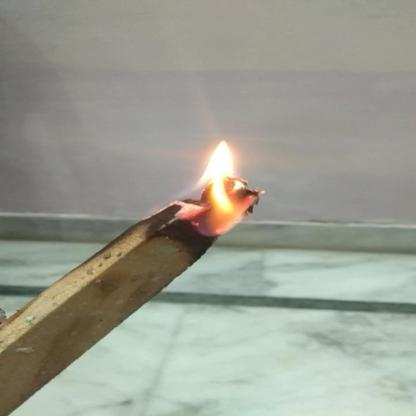fire: (174, 140, 267, 235)
